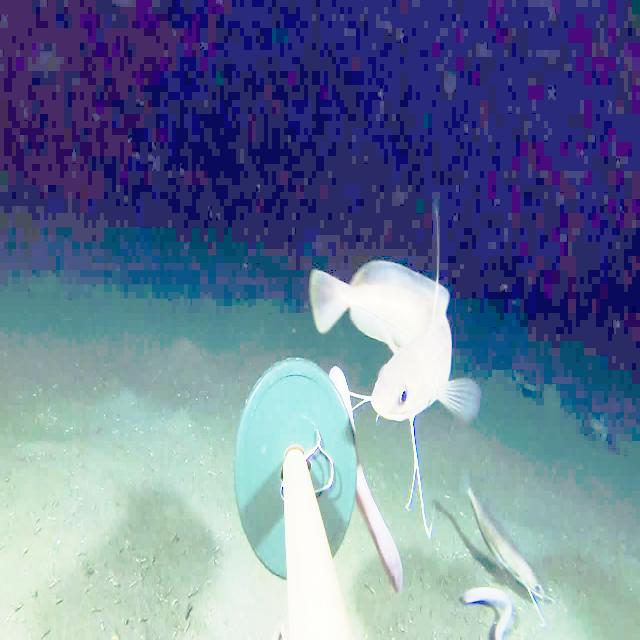eel: (314, 352, 416, 609), (454, 576, 520, 638)
fish: (305, 249, 483, 432), (460, 483, 553, 606)
pole: (224, 371, 353, 579)
